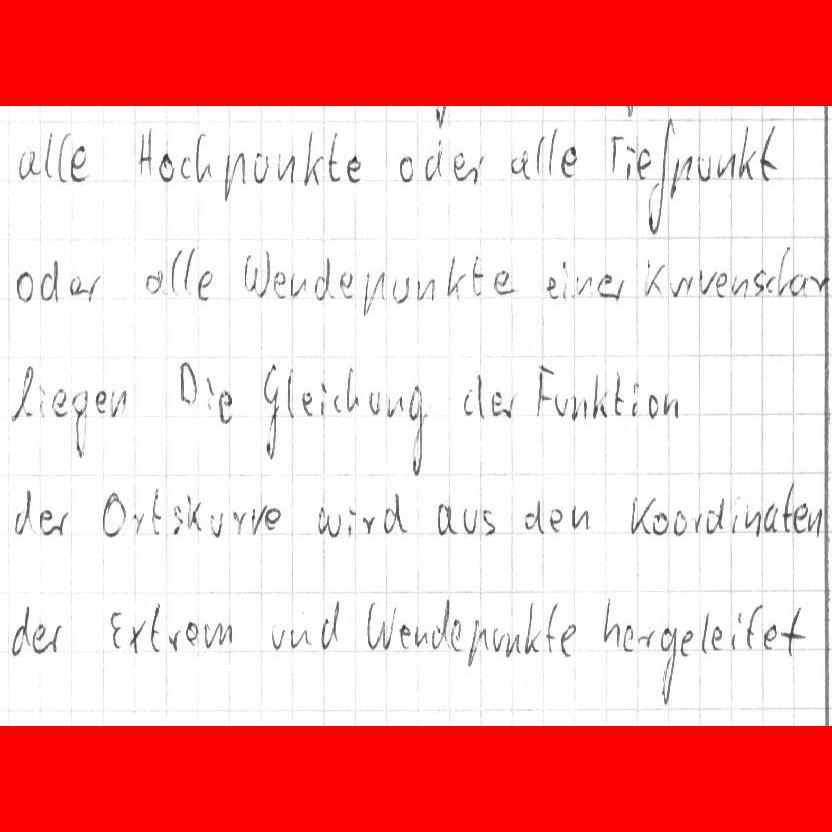Char: (645, 116, 673, 234), (259, 360, 282, 466), (405, 382, 430, 477), (241, 246, 273, 302), (364, 601, 397, 653), (10, 361, 36, 425), (658, 625, 678, 707), (301, 129, 327, 190), (779, 606, 808, 659), (69, 387, 90, 459), (221, 150, 248, 205), (461, 372, 490, 422), (101, 489, 129, 540), (12, 486, 38, 538), (759, 121, 781, 182), (318, 598, 343, 651), (465, 617, 490, 669), (421, 137, 447, 186), (362, 268, 387, 317), (737, 123, 758, 181), (600, 596, 622, 651), (38, 258, 62, 308), (444, 251, 467, 302), (11, 603, 32, 658), (136, 124, 157, 178), (382, 491, 409, 533), (522, 601, 543, 655), (313, 255, 336, 304), (534, 362, 554, 417), (669, 153, 692, 200), (430, 598, 450, 651), (178, 358, 200, 406), (640, 255, 665, 297), (629, 494, 654, 536), (589, 371, 609, 422), (508, 146, 534, 184), (522, 497, 546, 537), (775, 245, 793, 298), (68, 142, 91, 183), (148, 601, 166, 653), (195, 129, 212, 184), (492, 267, 522, 298), (203, 621, 235, 650), (491, 627, 520, 659), (57, 129, 73, 186), (744, 603, 763, 651), (544, 124, 560, 179), (143, 267, 170, 299), (318, 505, 342, 540), (344, 365, 361, 414), (559, 142, 580, 181), (275, 150, 297, 187), (327, 131, 342, 185), (470, 254, 488, 299), (436, 501, 459, 536), (606, 131, 623, 178), (780, 482, 795, 535), (17, 147, 41, 180), (705, 496, 726, 533), (182, 245, 197, 296), (107, 608, 124, 653), (252, 149, 272, 187), (14, 270, 36, 304), (544, 601, 558, 654), (744, 501, 763, 539), (127, 617, 146, 655), (415, 272, 438, 303), (390, 274, 412, 306), (216, 389, 235, 426), (285, 364, 297, 421), (82, 271, 103, 303), (29, 621, 47, 658), (169, 246, 182, 297), (149, 486, 162, 537), (185, 493, 202, 532), (634, 145, 652, 181), (194, 267, 213, 301), (726, 609, 741, 652), (715, 151, 737, 180), (613, 369, 626, 418), (50, 386, 68, 421), (761, 502, 780, 535), (45, 623, 64, 656), (559, 623, 576, 659), (344, 154, 363, 186), (156, 152, 176, 182), (288, 270, 308, 300), (272, 267, 289, 302), (398, 152, 417, 183), (534, 129, 546, 178), (787, 271, 808, 299), (699, 608, 711, 657), (695, 150, 712, 184), (452, 148, 468, 184), (570, 390, 588, 422), (43, 128, 54, 180), (36, 379, 49, 423), (697, 266, 716, 296), (110, 390, 129, 420), (552, 387, 569, 420), (250, 503, 267, 536), (289, 627, 314, 649), (338, 269, 355, 301), (38, 507, 56, 537), (792, 501, 808, 534), (481, 506, 498, 537), (448, 617, 463, 652), (575, 272, 595, 298), (570, 505, 590, 531), (628, 380, 642, 417), (806, 507, 822, 539), (662, 391, 679, 421), (170, 504, 185, 538), (208, 509, 225, 539), (621, 620, 636, 654), (730, 496, 743, 535), (269, 625, 287, 653), (469, 152, 484, 185), (651, 510, 670, 536), (366, 388, 383, 417), (501, 391, 518, 420), (548, 506, 565, 535), (761, 623, 778, 652), (731, 273, 749, 300), (809, 273, 830, 296), (610, 277, 630, 301), (679, 627, 694, 659), (231, 508, 248, 536), (263, 506, 282, 531), (385, 394, 403, 420), (752, 267, 767, 298), (646, 391, 661, 422), (462, 505, 477, 536), (636, 627, 656, 650), (624, 141, 635, 181), (205, 373, 216, 413), (598, 272, 613, 301), (185, 620, 200, 649), (413, 625, 431, 649), (346, 504, 358, 539), (672, 509, 687, 537), (54, 510, 70, 536), (491, 390, 505, 419), (398, 621, 412, 650), (709, 624, 723, 653), (130, 510, 145, 537), (544, 273, 558, 301), (669, 272, 684, 298), (167, 628, 182, 654), (318, 380, 328, 418), (714, 271, 728, 298), (300, 389, 314, 416), (180, 155, 194, 181), (94, 387, 107, 415), (560, 258, 569, 298), (68, 273, 82, 297), (361, 514, 375, 536), (692, 510, 704, 535), (331, 392, 344, 413), (682, 274, 694, 296), (765, 274, 776, 296)
